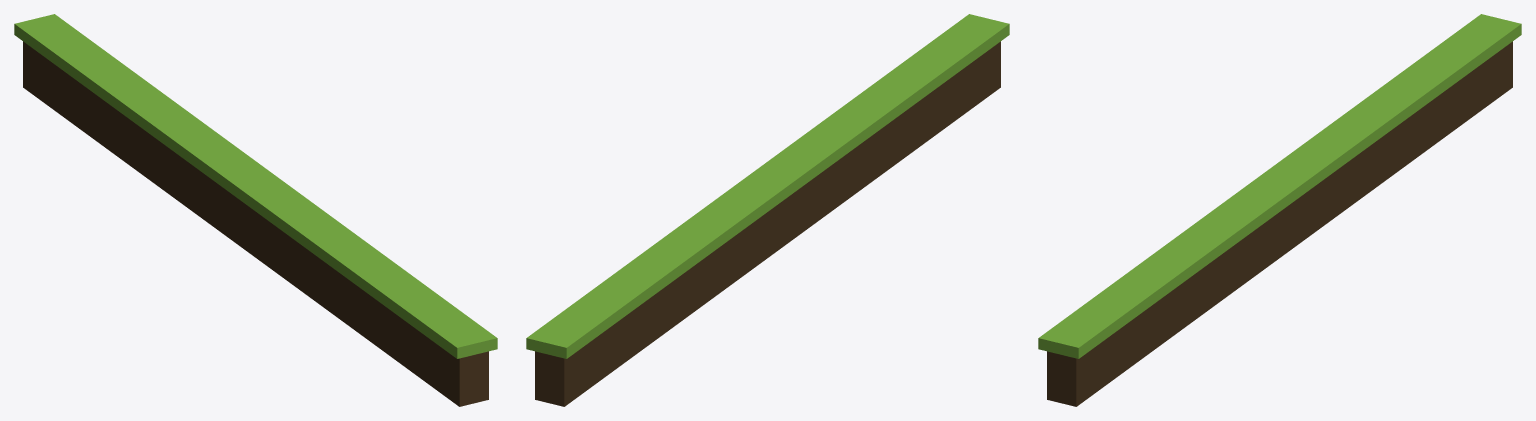
File: Platform.fbx
The picture shows the model from 3 angles, left to right: view 1: azimuth 30°, elevation 25°; view 2: azimuth 150°, elevation 25°; view 3: azimuth 330°, elevation 25°; orthographic projection.
Parts seen in each view (by area): view 1: Platform; view 2: Platform; view 3: Platform.
Boxes of the visible parts, box(x1,y1,x2,y2) form: Platform: box(14, 14, 497, 406); Platform: box(526, 14, 1009, 406); Platform: box(1038, 14, 1521, 406).
Size of the model in its own units: 68.16 by 101 by 1297.
